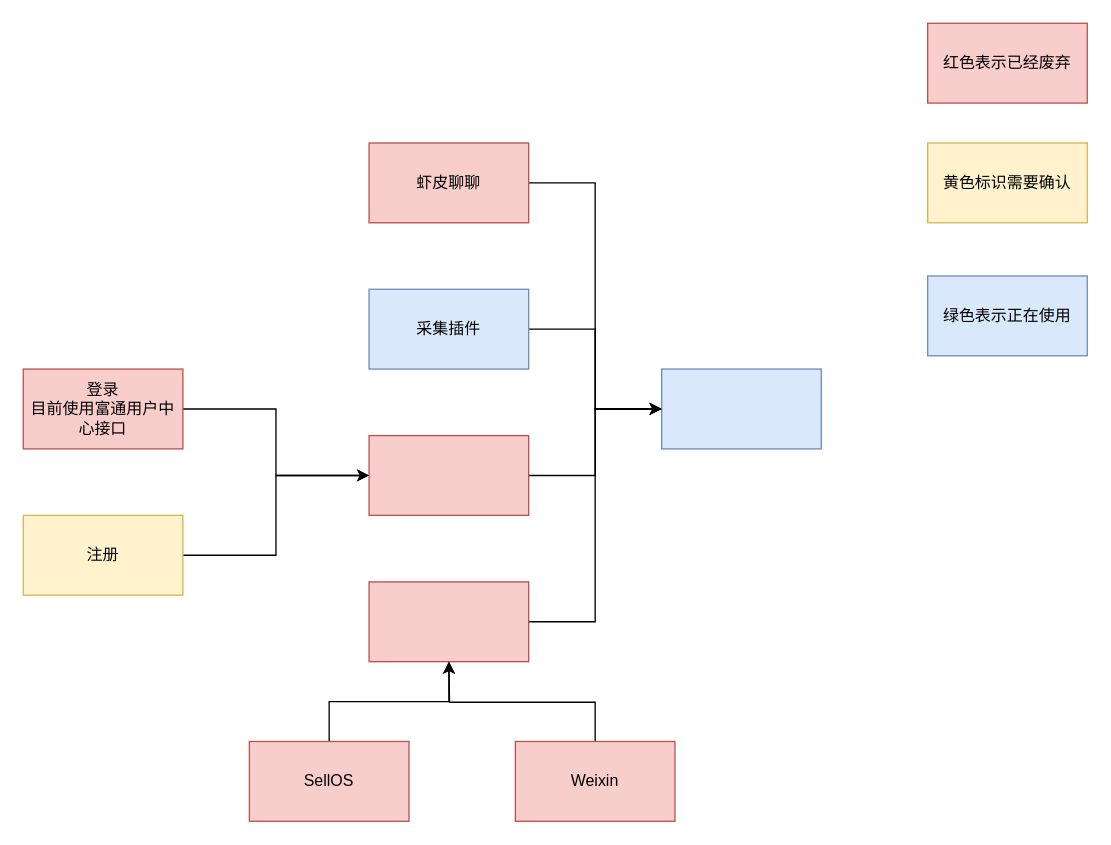
This 1111x845 diagram has some shape labels left out. Each missing label, with the centre of its shape:
亚马逊广告: [448,474]
第三方登录: [448,621]
芒果店长: [740,408]
